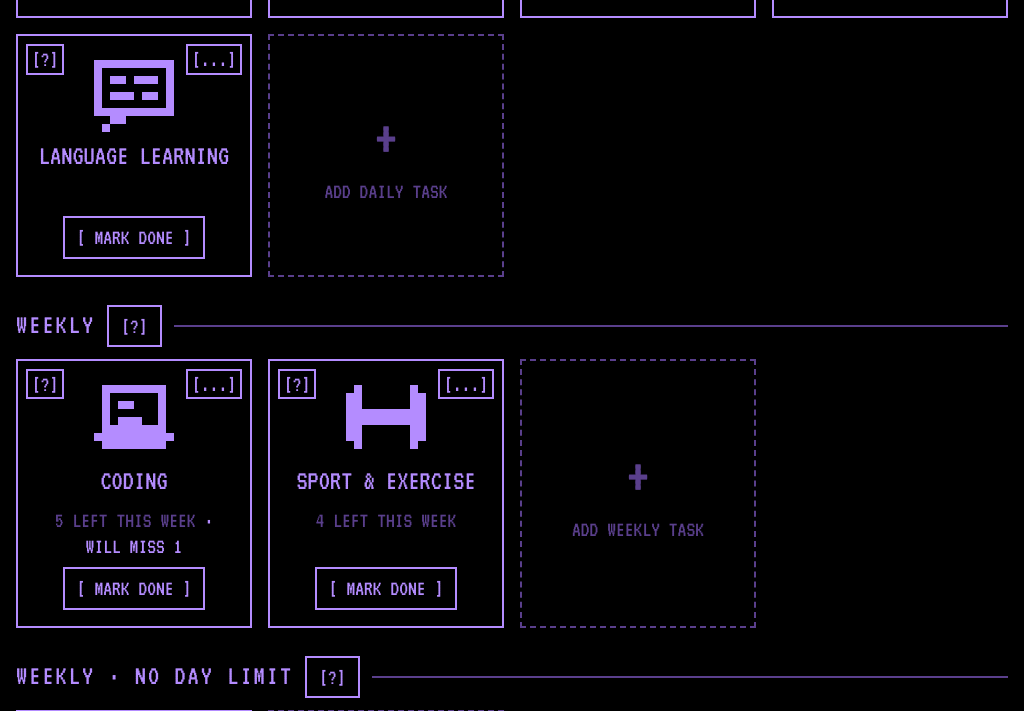
Scenario: App › edits a task name, image and description but not its target
The width and height of the screenshot is (1024, 711).
(page scrolled)
Click the button named "Edit Coding": point(214, 384) [186,369,242,399]
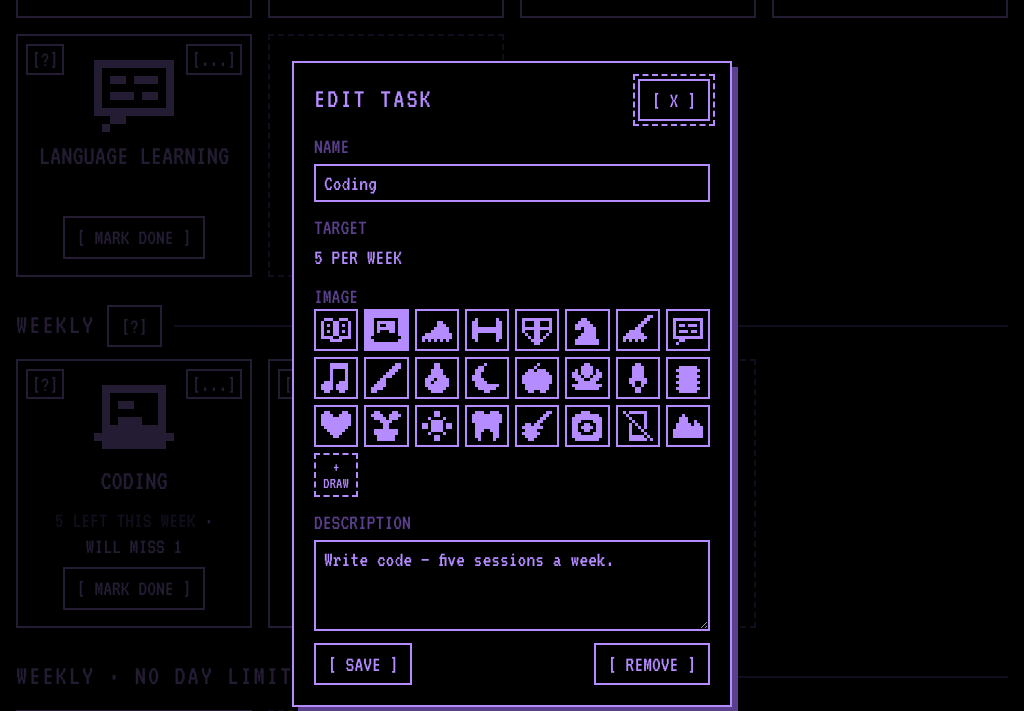
Expected: the field labelled "NAME" holds "Coding"
Expected: the text "5 PER WEEK" is shown, [314,216,402,268]
Replace the text in the field labelled "NAME" with "Deep work": point(512, 183) [314,164,710,202]
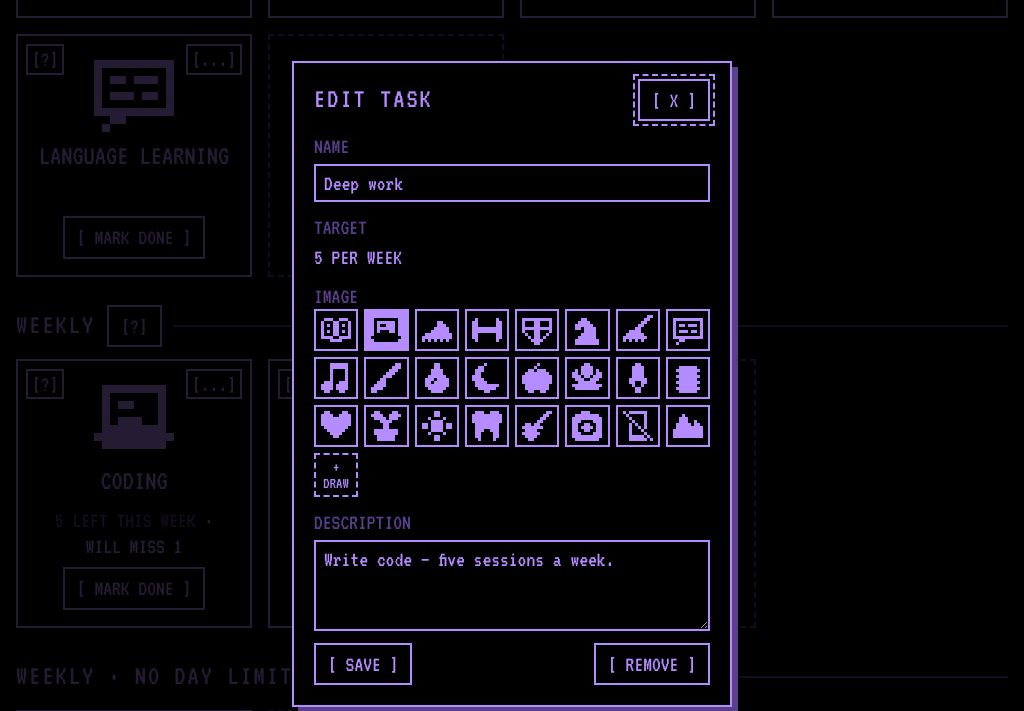
Click the button "[ SAVE ]": point(363, 664) [314,643,412,685]
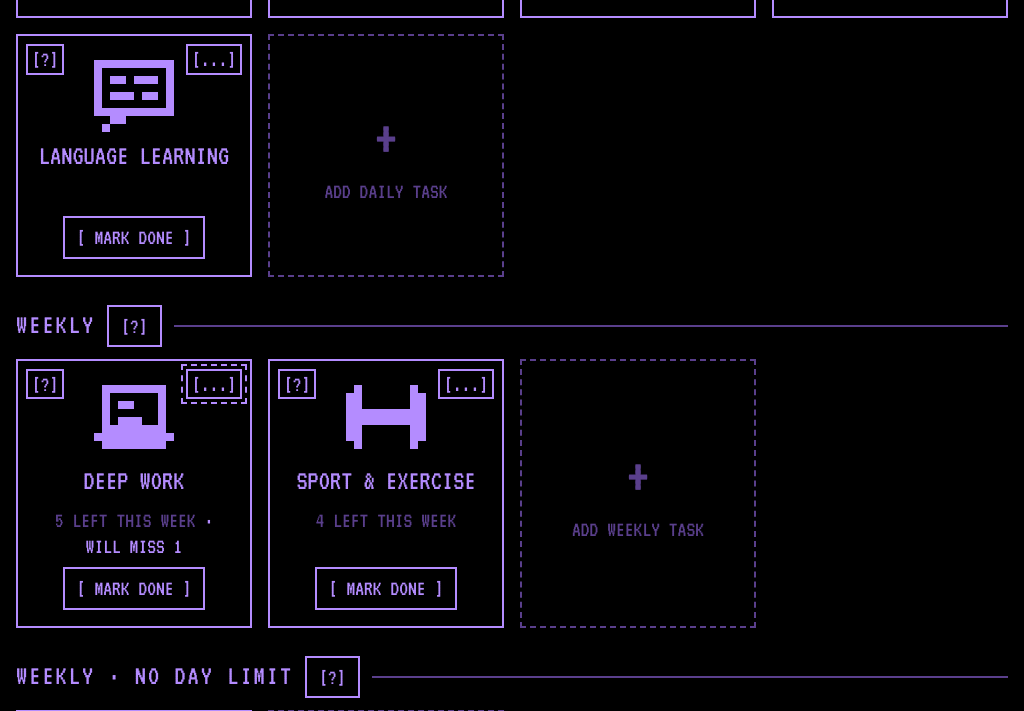
Expected: the element "DEEP WORK" is shown, [16,359,252,628]
Expected: the heading "CODING" is gone
